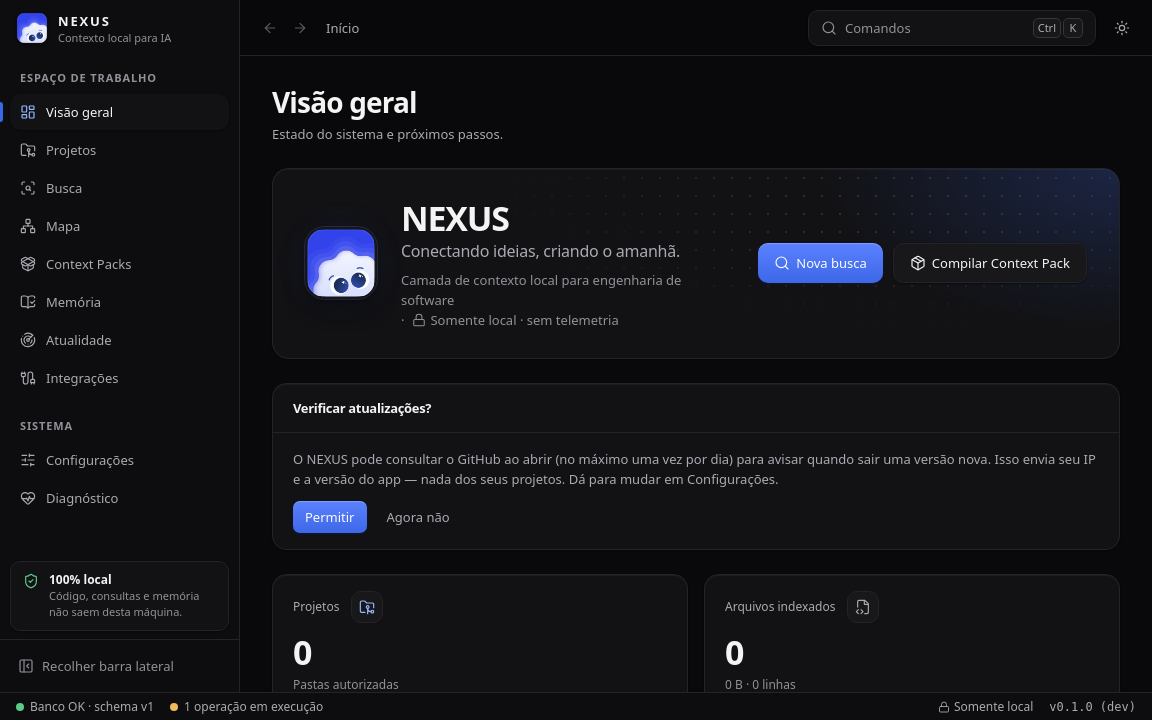
Scenario: atualizações › pergunta na primeira abertura e, com 'Agora não', nunca consulta a rede
expect the text "envia seu IP e a versão do app" is shown: met, box left=293, top=450, right=1096, bottom=488
Click the button "Agora não": (418, 516) left=374, top=500, right=462, bottom=532
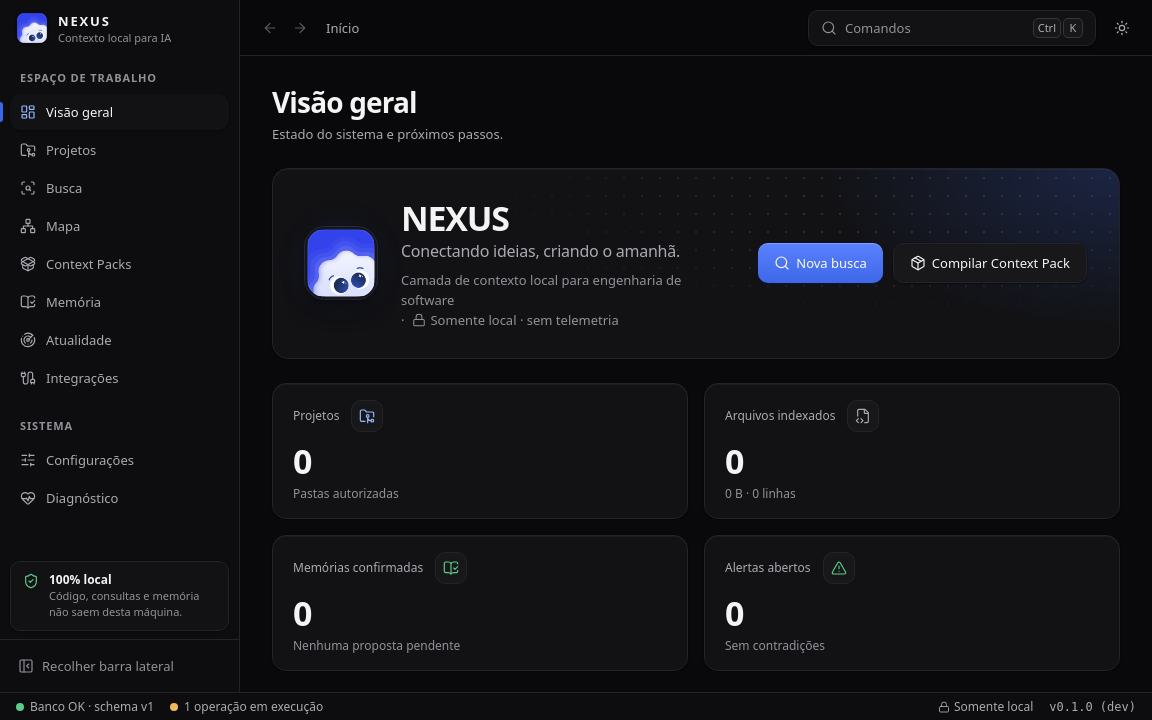
expect the heading "Verificar atualizações?" is gone: met
